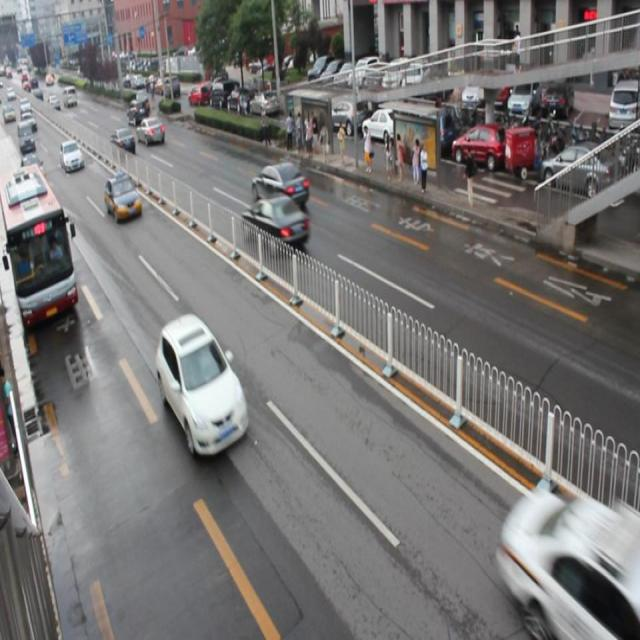car: (156, 314, 251, 458), (240, 195, 311, 253), (252, 163, 310, 210), (103, 170, 142, 220), (137, 118, 165, 146), (61, 139, 83, 172), (110, 130, 136, 154)
van: (1, 166, 78, 328)
